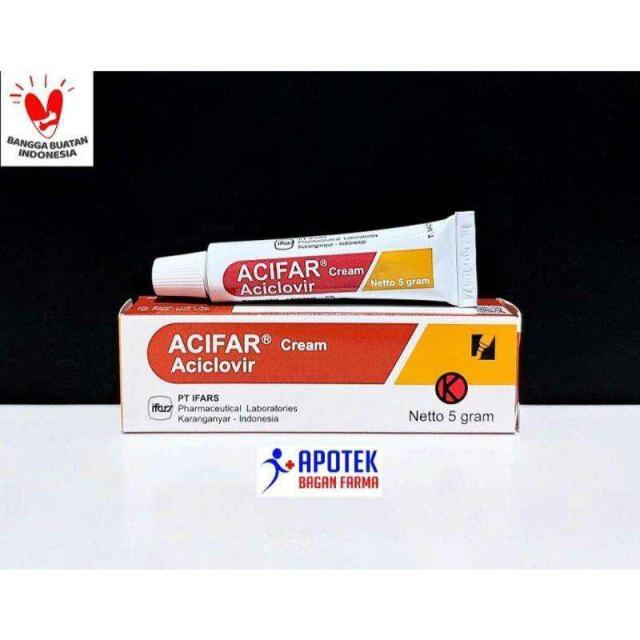drug-name: (168, 328, 261, 356)
